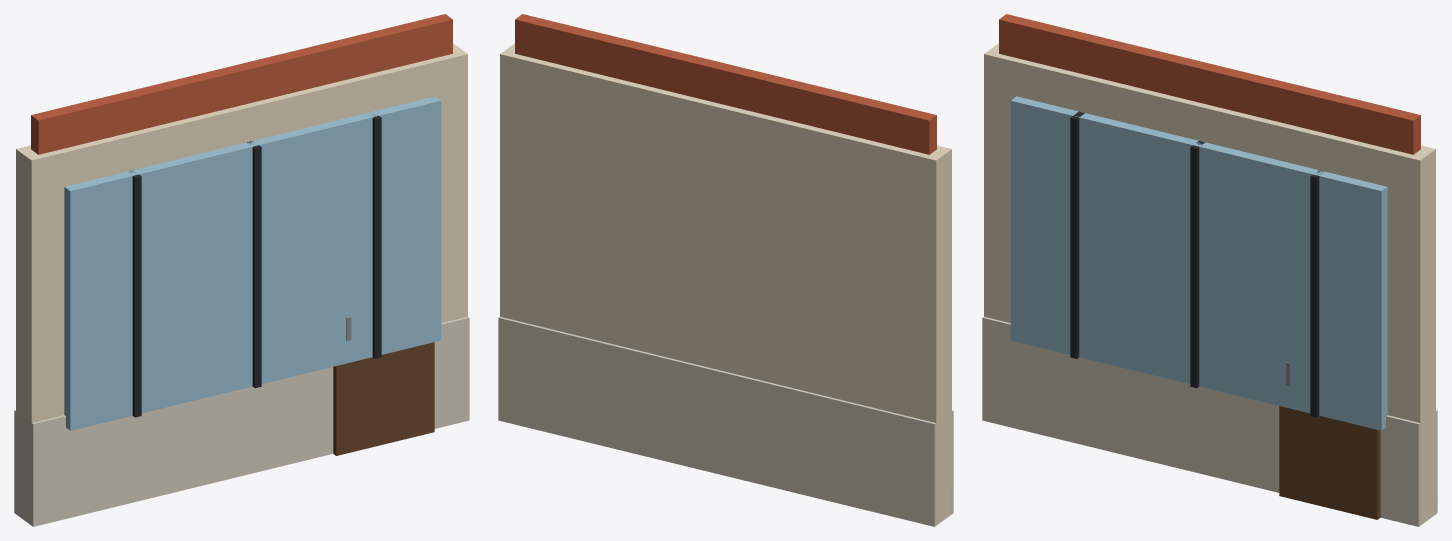
Rendered from arch.bay-storefront.glb.
3 renders of one model, left to right at view 1: azimuth 30°, elevation 25°; view 2: azimuth 150°, elevation 25°; view 3: azimuth 330°, elevation 25°, orthographic.
Parts seen in each view (by area): view 1: arch.bay-storefront; view 2: arch.bay-storefront; view 3: arch.bay-storefront.
Part boxes in pixels (x1,y1,x2,y2): arch.bay-storefront: [14, 14, 469, 526]; arch.bay-storefront: [498, 14, 953, 526]; arch.bay-storefront: [982, 14, 1437, 526].
Bounding box in the file's own units: 4 × 3.5 × 0.41.
